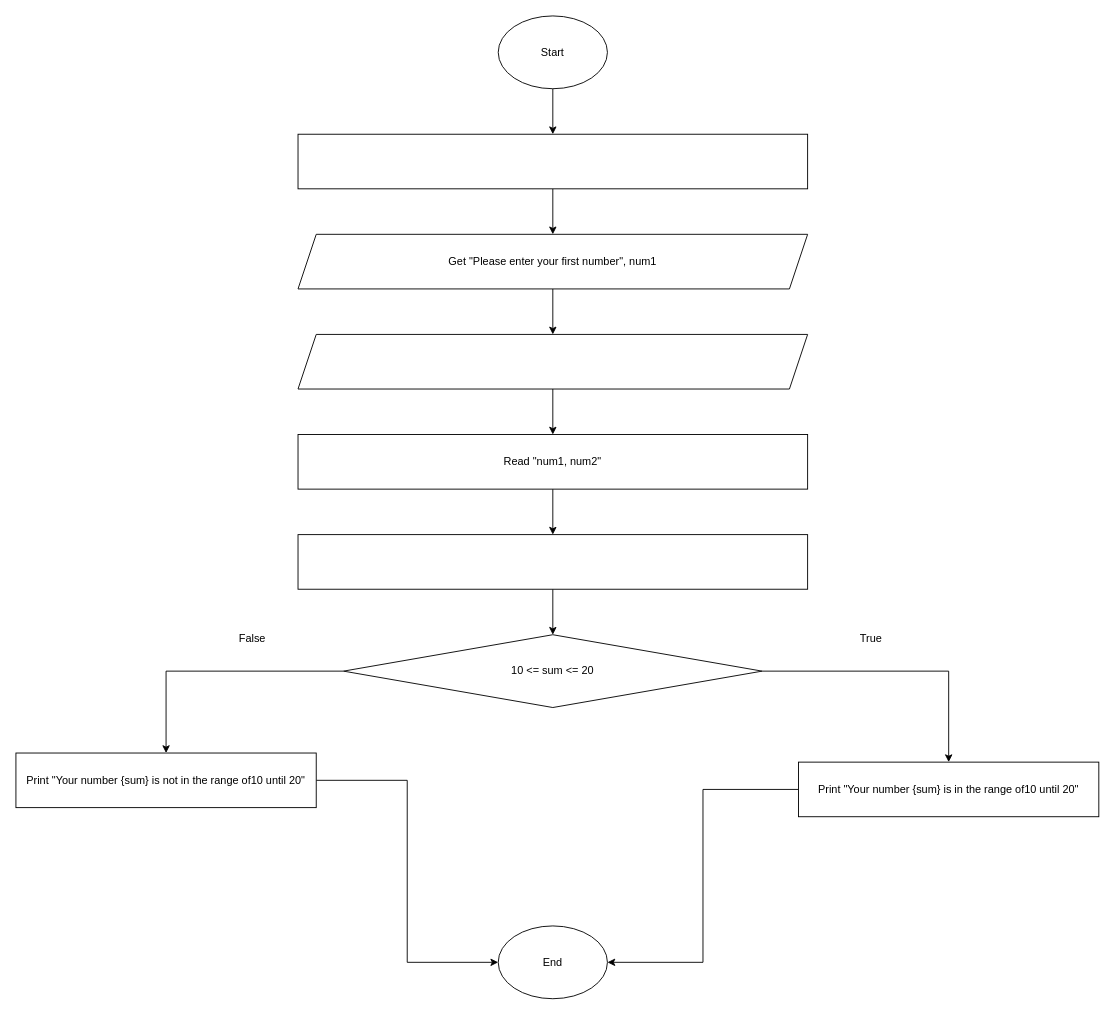
Image size: 1115x1015. Some labels were removed from this diagram. The box of each missing label's shape, as (x1, y1, x2, y2) in pixels:
Declare "num1, num2": (297, 133, 808, 189)
Get "Please enter your first number", num2: (297, 334, 808, 389)
Input "sum = num1 + num2": (297, 534, 808, 589)
